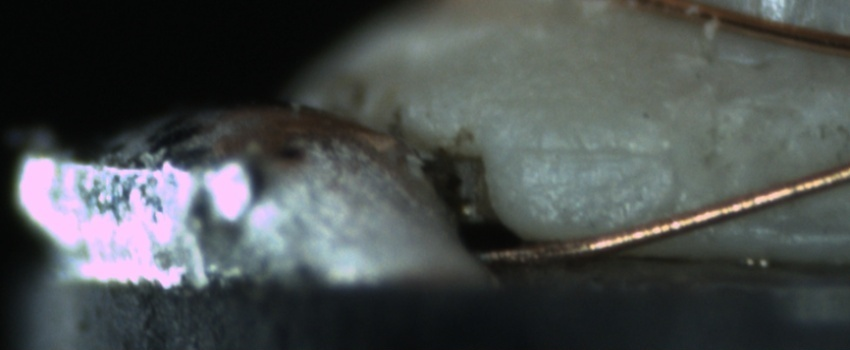DL: (515, 121, 671, 181)
